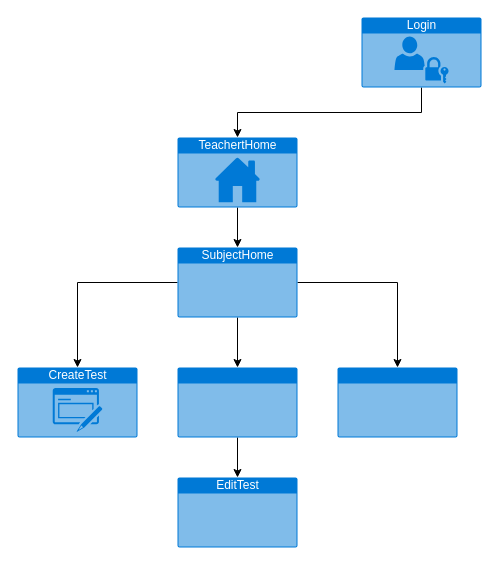
Image size: 498x564. Some labels were removed from this diagram. The centre of each missing label's shape, as x and y in pixels:
"CheckQuestion" belongs at pixel 397 402.
"CheckTest" belongs at pixel 237 402.
